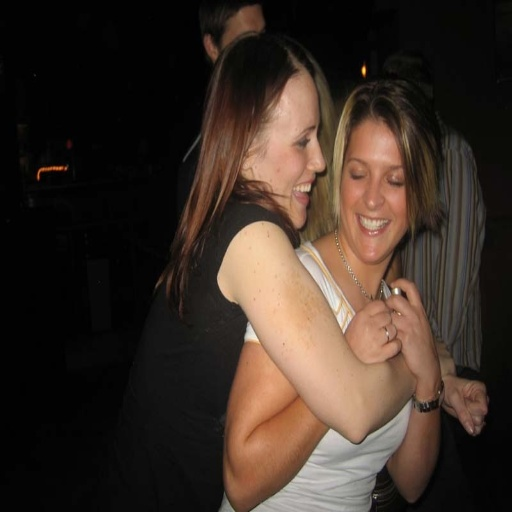hand: (384, 277, 442, 381), (344, 297, 404, 364), (446, 360, 487, 442), (435, 338, 458, 381)
